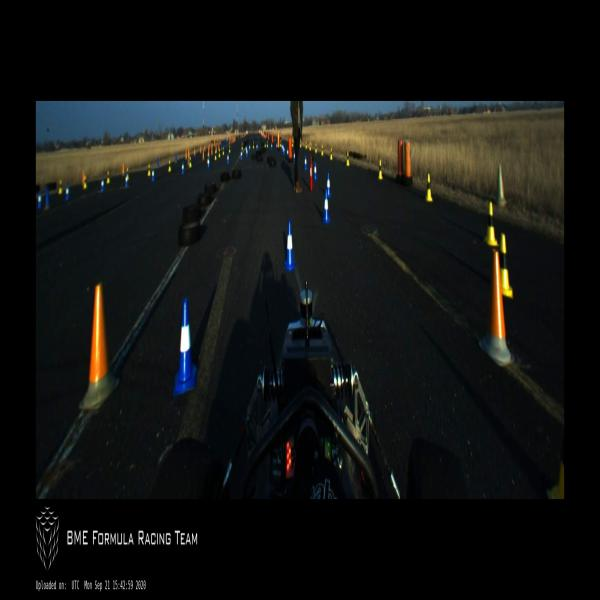blue_cone: (174, 299, 197, 397), (283, 220, 295, 270), (322, 188, 331, 224), (325, 172, 332, 198), (313, 160, 318, 180), (37, 190, 42, 209), (304, 154, 308, 172), (66, 183, 70, 201), (100, 179, 105, 193), (151, 167, 155, 182), (125, 174, 128, 189), (226, 153, 230, 164), (286, 146, 289, 158), (207, 157, 210, 169), (240, 149, 243, 161), (182, 162, 184, 176), (294, 150, 296, 162), (283, 145, 285, 156), (246, 146, 248, 156), (256, 142, 258, 152)
yellow_cone: (500, 234, 513, 299), (483, 202, 497, 245), (425, 173, 433, 202), (378, 160, 383, 180), (58, 179, 62, 195), (346, 151, 350, 166), (329, 146, 333, 161), (83, 174, 87, 189), (106, 170, 110, 185), (168, 160, 172, 172), (188, 157, 192, 168), (320, 143, 323, 157), (240, 140, 244, 150), (126, 168, 129, 180), (291, 138, 294, 148), (266, 139, 269, 149), (148, 164, 150, 176), (252, 141, 255, 149), (315, 143, 317, 154), (222, 146, 224, 157), (309, 142, 311, 152), (305, 140, 307, 150), (279, 138, 281, 148), (300, 140, 302, 148), (228, 146, 230, 154), (215, 151, 216, 161), (219, 149, 220, 158)
